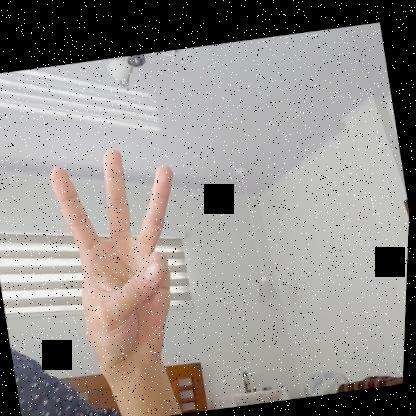W: (39, 133, 214, 385)
